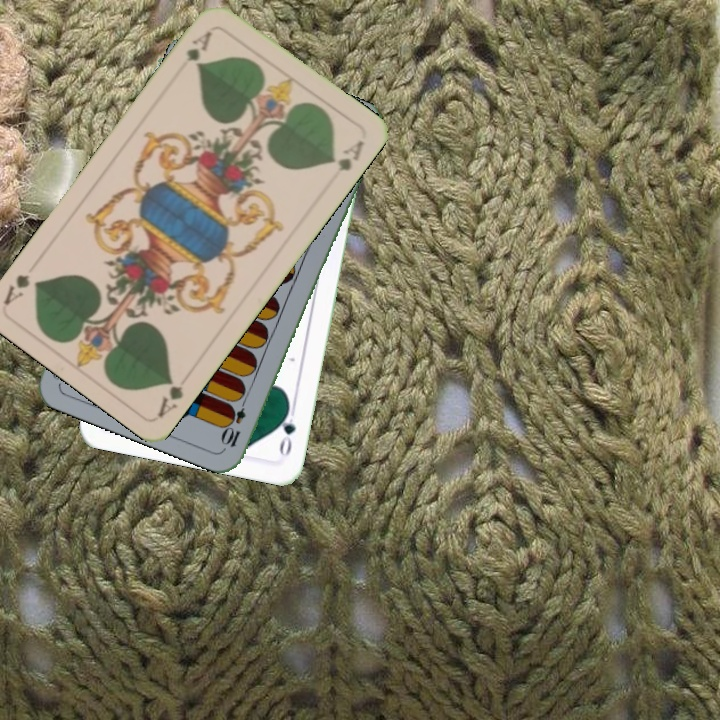E10: (219, 392, 250, 450)
GA: (153, 374, 186, 420), (182, 27, 215, 71)
GO: (275, 400, 299, 460)
